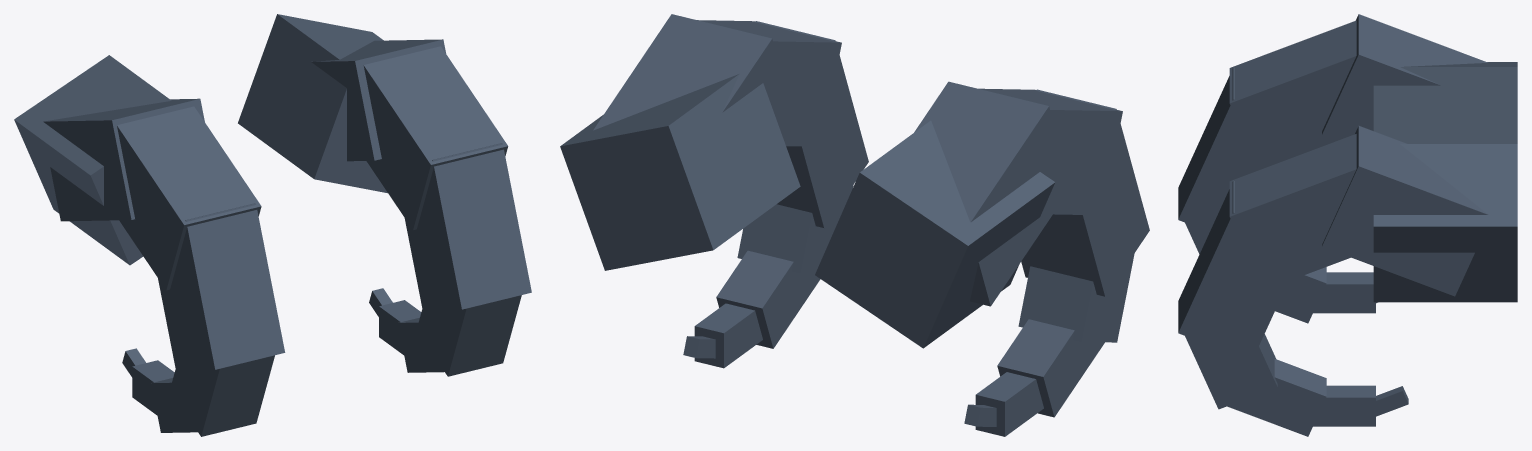
File: halloween_horns_3.glb
The picture shows the model from 3 angles, left to right: view 1: azimuth 30°, elevation 25°; view 2: azimuth 150°, elevation 25°; view 3: azimuth 270°, elevation 25°; orthographic projection. The views are drawn at different scales.
Visible parts, largest first — view 1: cube.011, cube.003, cube, cube.010, cube.002, cube.008, cube.009, cube.004, cube.012, cube.001, cube.005, cube.013 (+2 smaller); view 2: cube, cube.008, cube.009, cube.001, cube.011, cube.003, cube.010, cube.002, cube.012, cube.013, cube.005, cube.004 (+4 smaller); view 3: cube, cube.002, cube.001, cube.010, cube.008, cube.003, cube.009, cube.011, cube.005, cube.004, cube.006, cube.014 (+3 smaller).
Boxes of the visible parts, x1,y1,x2,y2 form: cube.011: (158,203,285,370); cube.003: (404,143,531,310); cube: (238,14,387,193); cube.010: (117,106,261,290); cube.002: (363,46,508,229); cube.008: (14,55,171,265); cube.009: (43,98,204,221); cube.004: (416,295,521,376); cube.012: (170,355,274,436); cube.001: (311,39,446,161); cube.005: (398,317,444,372); cube.013: (151,378,197,432); cube: (560,74,800,270); cube.008: (815,120,1055,348); cube.009: (914,81,1071,306); cube.001: (593,14,794,136); cube.011: (1021,89,1149,296); cube.003: (755,21,868,227); cube.010: (978,88,1122,215); cube.002: (697,20,841,146); cube.012: (1018,253,1134,342); cube.013: (997,319,1104,417); cube.005: (716,250,820,348); cube.004: (737,185,853,273); cube: (1373,144,1517,302); cube.002: (1229,134,1356,290); cube.001: (1322,126,1488,296); cube.010: (1229,20,1356,169); cube.008: (1373,62,1517,143); cube.003: (1178,180,1288,360); cube.009: (1322,14,1488,140); cube.011: (1178,67,1259,231); cube.005: (1227,359,1326,436); cube.004: (1185,334,1277,409); cube.006: (1313,385,1375,426); cube.014: (1313,272,1375,313).
Size of the model in its own units: 1.52 by 1.21 by 1.33.
Materials: 1 (1 with a texture image).
